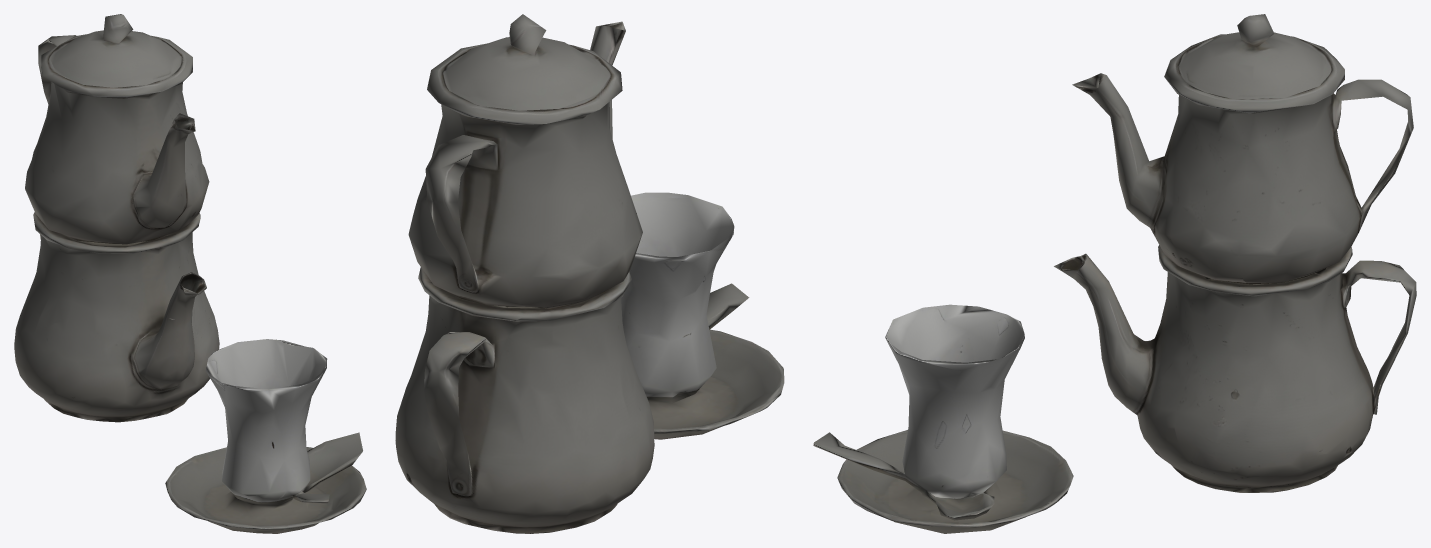
3 renders of one model, left to right at view 1: azimuth 30°, elevation 25°; view 2: azimuth 150°, elevation 25°; view 3: azimuth 270°, elevation 25°, orthographic. The views are drawn at different scales.
Visible parts, largest first — view 1: tripo_node_60364d05-5097-43b8-aabc-d38449c6b6a2; view 2: tripo_node_60364d05-5097-43b8-aabc-d38449c6b6a2; view 3: tripo_node_60364d05-5097-43b8-aabc-d38449c6b6a2.
Boxes of the visible parts, x1,y1,x2,y2 form: tripo_node_60364d05-5097-43b8-aabc-d38449c6b6a2: (14,14,366,533); tripo_node_60364d05-5097-43b8-aabc-d38449c6b6a2: (395,14,784,533); tripo_node_60364d05-5097-43b8-aabc-d38449c6b6a2: (813,14,1416,533).
Size of the model in its own units: 0.4824 by 0.8678 by 1.
1 material, 1 textured.
